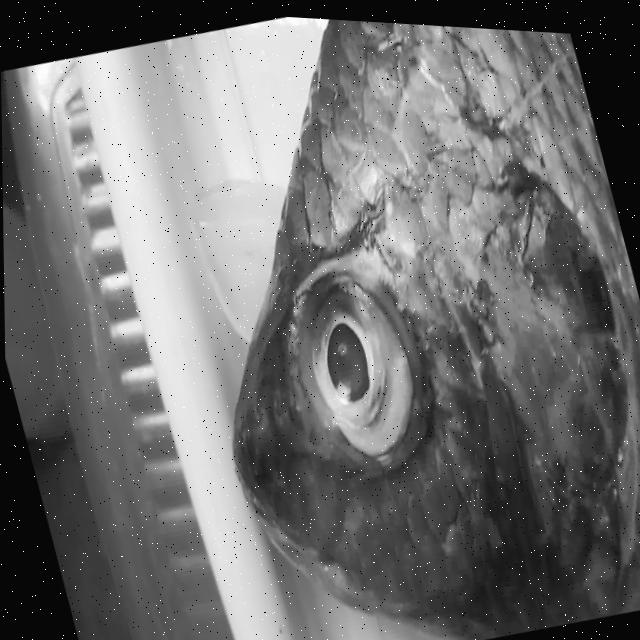Fresh: (235, 126, 474, 499)
